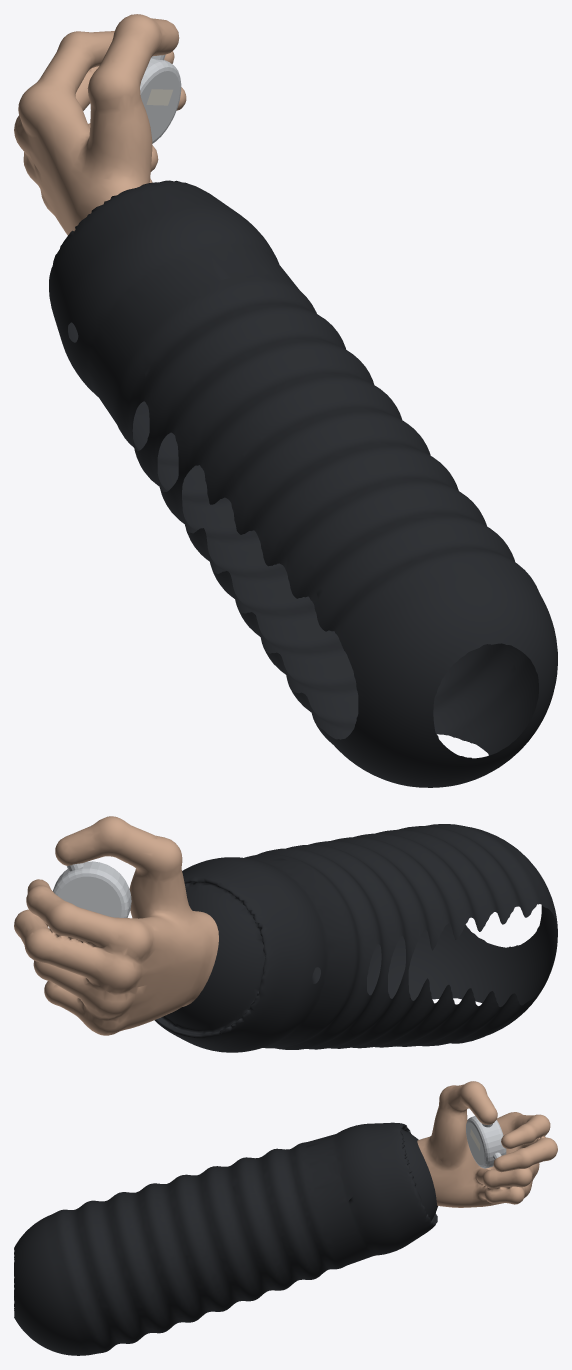
File: his_left_clicker.glb
The picture shows the model from 3 angles, top to bottom: view 1: azimuth 30°, elevation 25°; view 2: azimuth 150°, elevation 25°; view 3: azimuth 270°, elevation 25°; orthographic projection. The views are drawn at different scales.
Parts seen in each view (by area): view 1: his_left_clicker, clicker; view 2: his_left_clicker, clicker; view 3: his_left_clicker, clicker.
Boxes of the visible parts, bbox=[...] form: his_left_clicker: bbox=[14, 14, 557, 787]; clicker: bbox=[140, 58, 181, 143]; his_left_clicker: bbox=[14, 816, 557, 1052]; clicker: bbox=[53, 861, 131, 917]; his_left_clicker: bbox=[14, 1081, 557, 1355]; clicker: bbox=[466, 1116, 506, 1168].
Bounding box in the file's own units: 0.1383 × 0.281 × 0.5062.
